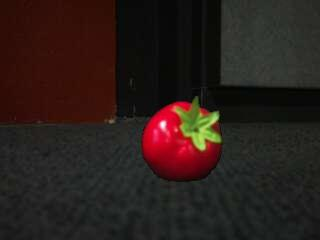Tomato: (138, 94, 224, 185)
